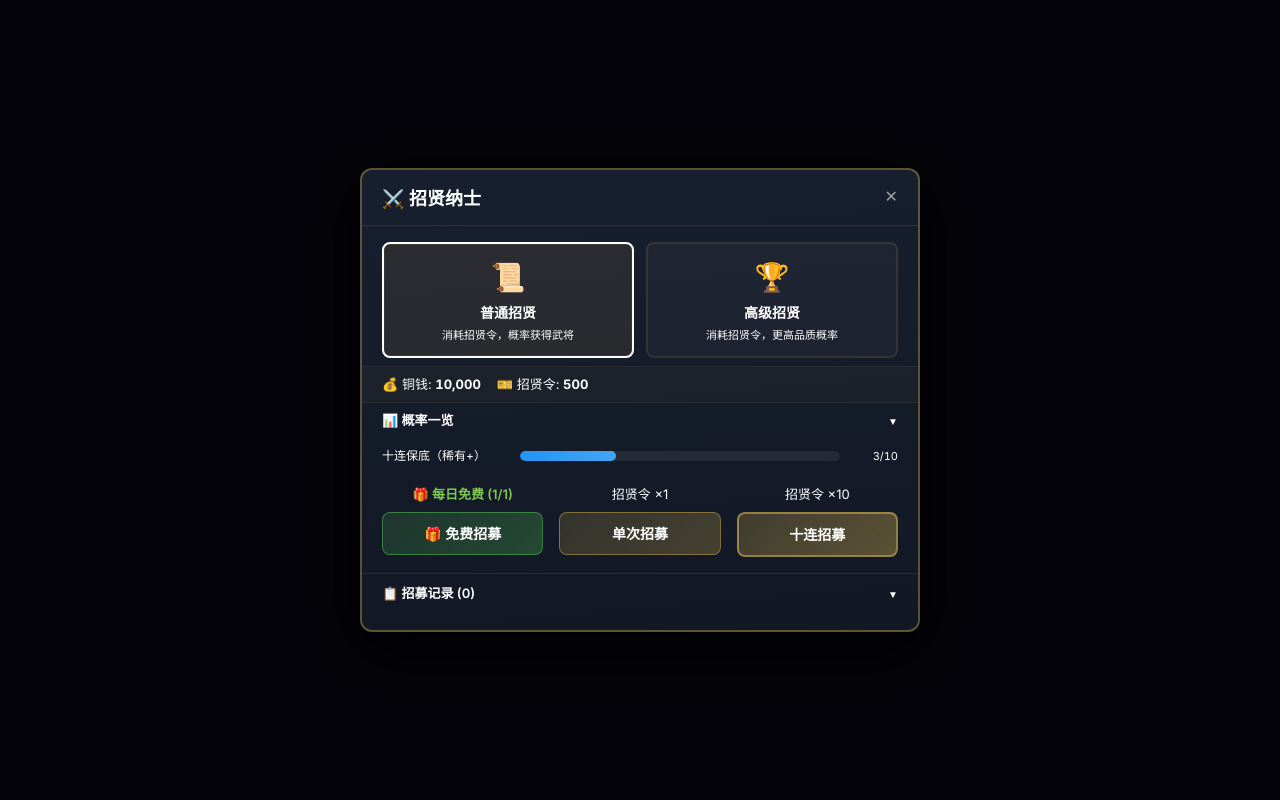
Scenario: RecruitModal › 点击概率表按钮应展开概率表
Click the button with test id "recruit-rates-toggle": (418,420) [382, 403, 898, 439]
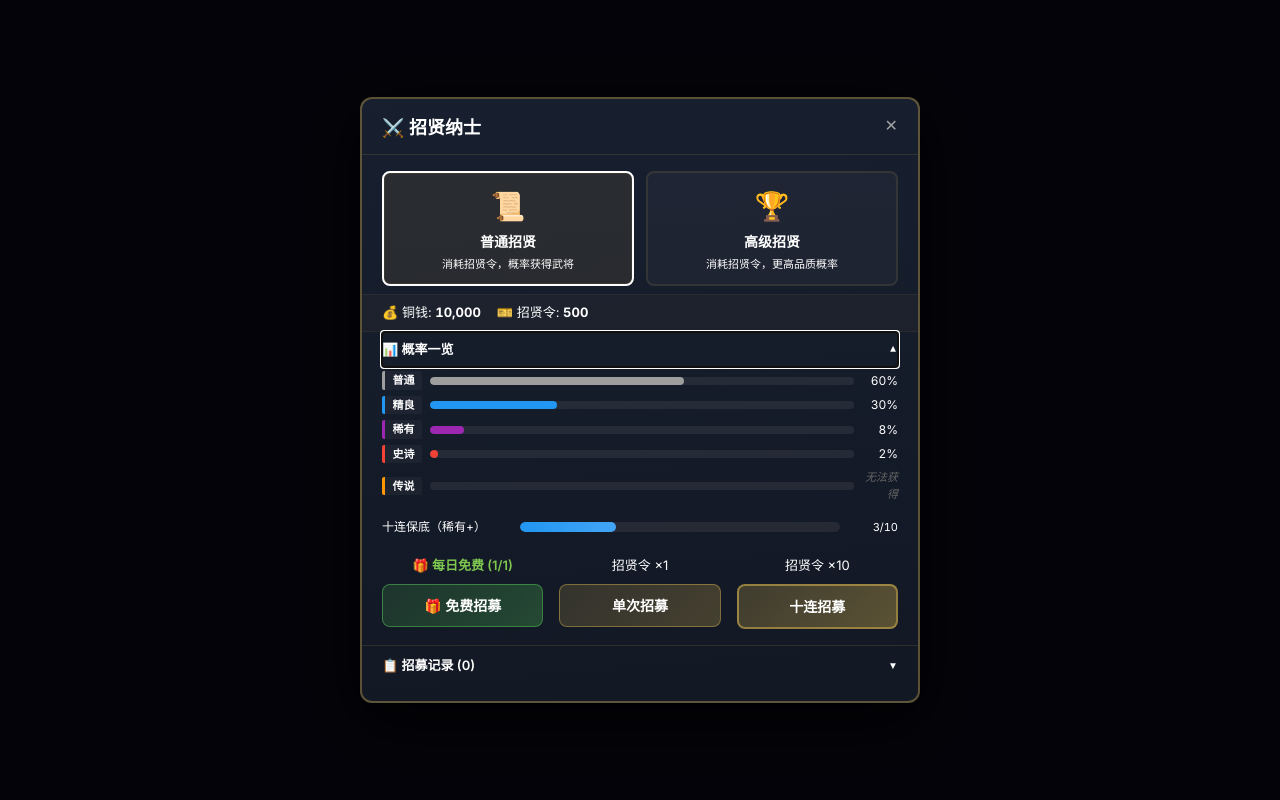
Expected: the element with test id "recruit-rates-table" is shown, [382, 367, 898, 510]
